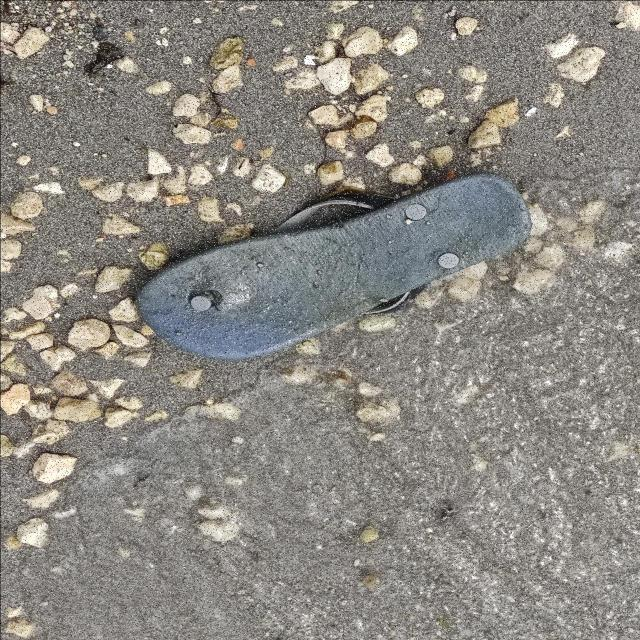rubber_waste: (135, 171, 535, 363)
